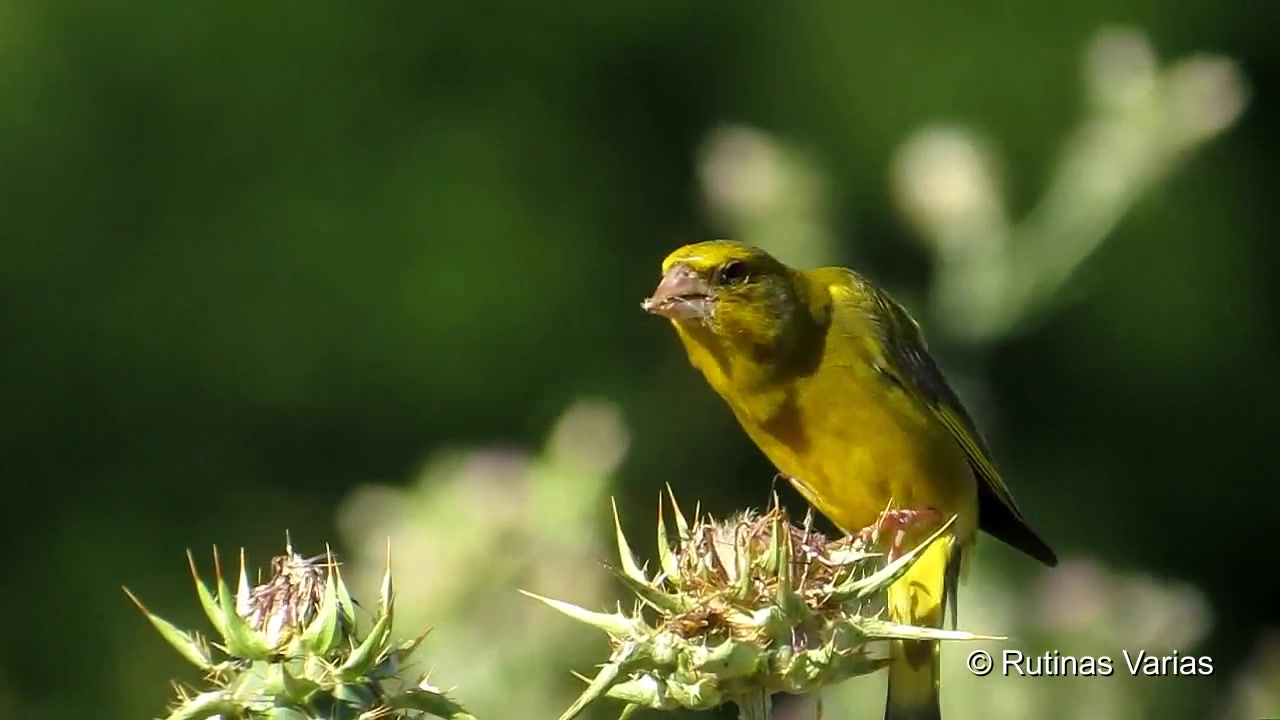bird: (642, 238, 1061, 720)
